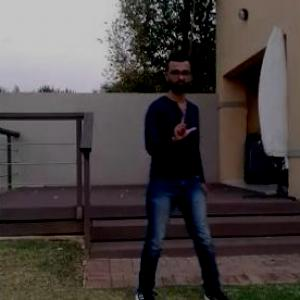land_hand: (163, 104, 198, 148)
